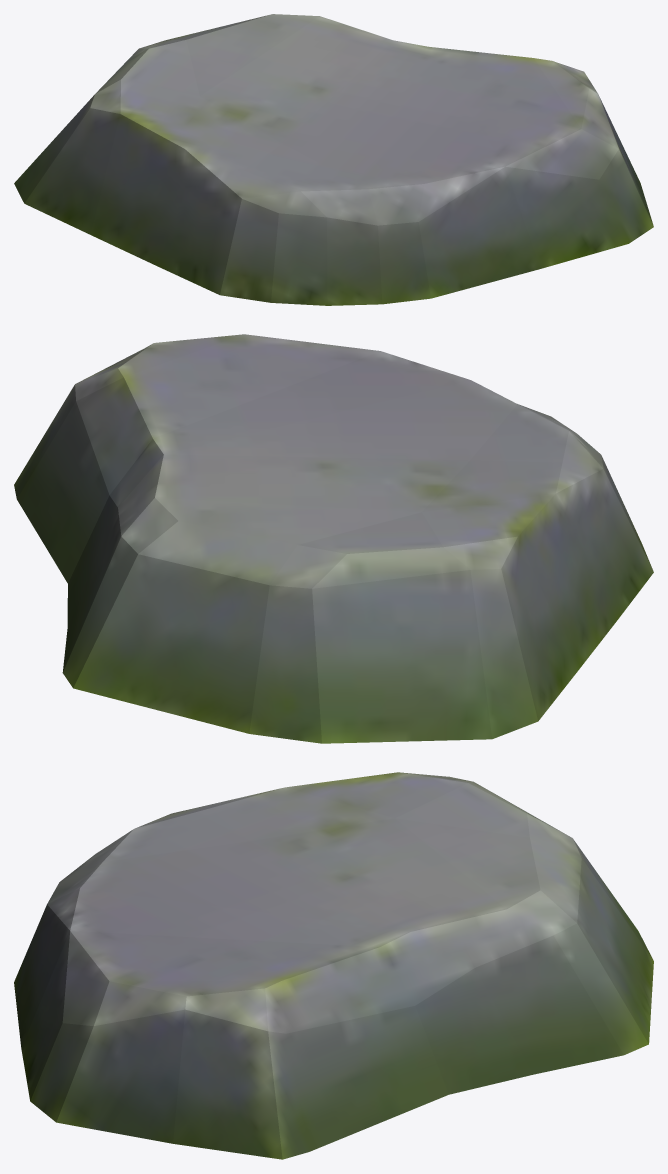
Rendered from n_Pebble_Round_2.glb.
3 views of the same model, one above another, from view 1: azimuth 30°, elevation 25°; view 2: azimuth 150°, elevation 25°; view 3: azimuth 270°, elevation 25° (orthographic). The views are drawn at different scales.
Parts seen in each view (by area): view 1: Pebble_Round_2; view 2: Pebble_Round_2; view 3: Pebble_Round_2.
Part boxes in pixels (bbox=[...]): Pebble_Round_2: bbox=[14, 14, 653, 305]; Pebble_Round_2: bbox=[14, 334, 653, 743]; Pebble_Round_2: bbox=[14, 772, 653, 1159].
Size of the model in its own units: 0.4495 by 0.0942 by 0.4111.
1 material, 1 textured.
